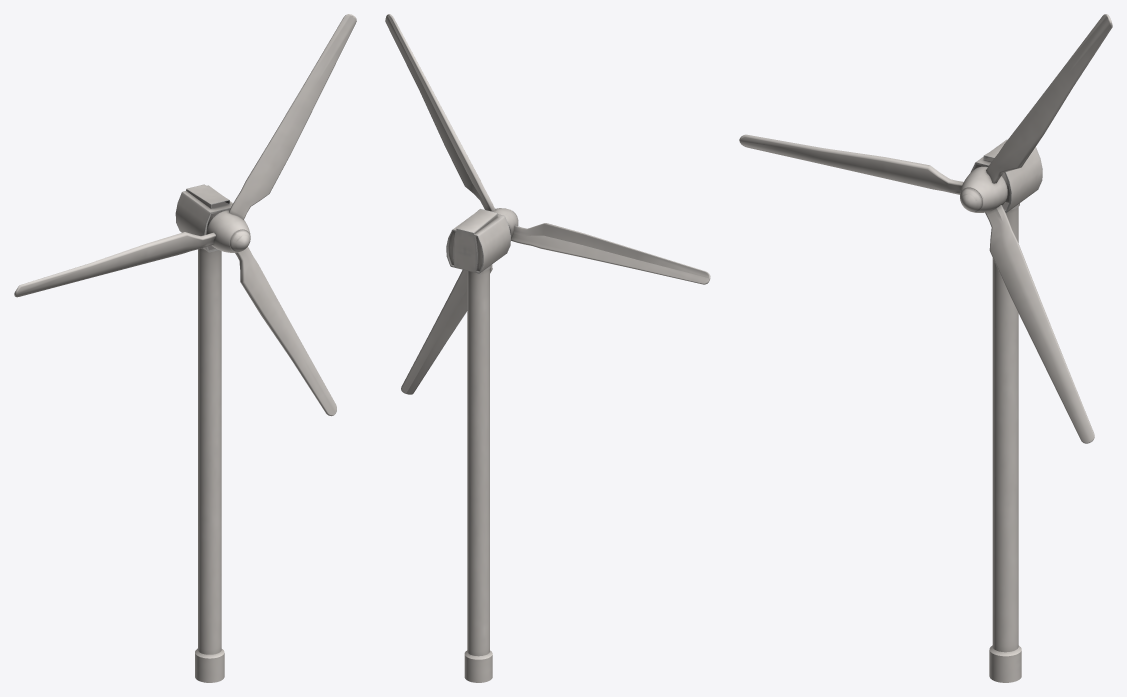
The model's file is WindTurbines.glb.
3 renders of one model, left to right at view 1: azimuth 30°, elevation 25°; view 2: azimuth 150°, elevation 25°; view 3: azimuth 330°, elevation 25°, orthographic. The views are drawn at different scales.
Visible parts, largest first — view 1: Blades, Main_Unit_WindTurbine_PBR_0; view 2: Main_Unit_WindTurbine_PBR_0, Blades; view 3: Blades, Main_Unit_WindTurbine_PBR_0.
Boxes of the visible parts, bbox=[...] form: Blades: bbox=[14, 14, 356, 416]; Main_Unit_WindTurbine_PBR_0: bbox=[175, 184, 232, 682]; Main_Unit_WindTurbine_PBR_0: bbox=[446, 209, 510, 682]; Blades: bbox=[385, 14, 710, 394]; Blades: bbox=[739, 14, 1112, 443]; Main_Unit_WindTurbine_PBR_0: bbox=[970, 139, 1042, 682].
Size of the model in its own units: 4151 by 7565 by 1049.
1 material, 1 textured.
